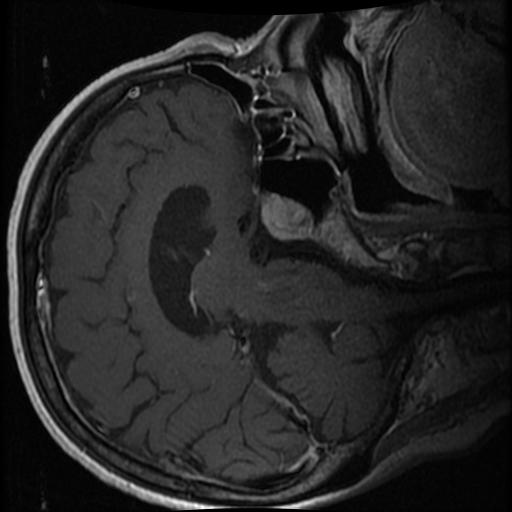pituitary tumour: (259, 192, 312, 241)
